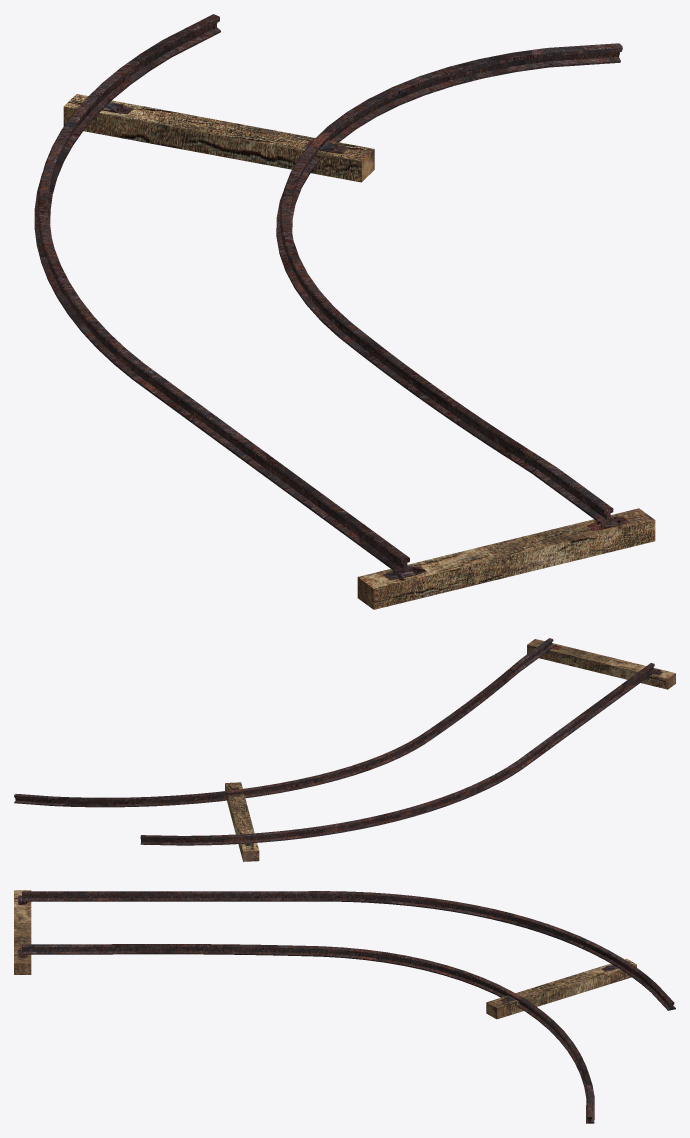
The model's file is Relsy-4.fbx.
3 renders of one model, top to bottom at view 1: azimuth 30°, elevation 25°; view 2: azimuth 150°, elevation 25°; view 3: azimuth 270°, elevation 25°, orthographic. The views are drawn at different scales.
Parts seen in each view (by area): view 1: Shpala.007; view 2: Shpala.007; view 3: Shpala.007.
Boxes of the visible parts, x1,y1,x2,y2 form: Shpala.007: (34, 14, 655, 609); Shpala.007: (14, 638, 675, 861); Shpala.007: (14, 890, 675, 1123).
Size of the model in its own units: 390 by 35.9 by 532.
